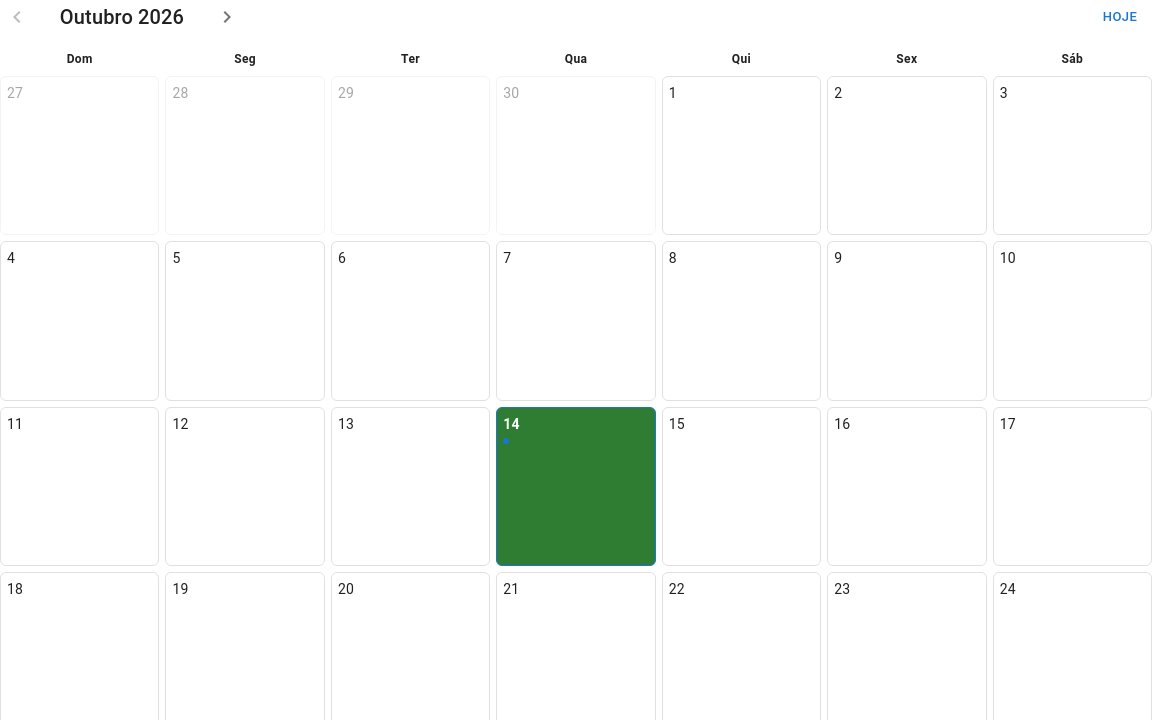
Scenario: CalendarView › abre o modal do dia ao clicar em um dia com eventos
Click the button "14" at (576, 486), box [496,407,656,566]
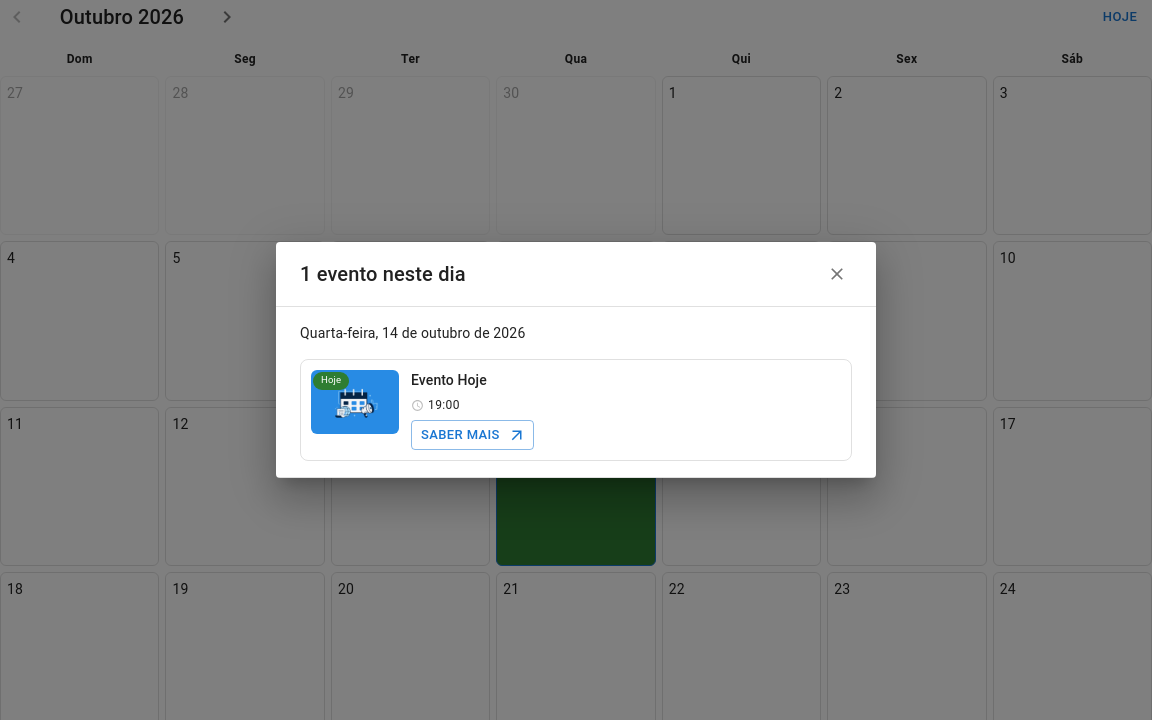
Expected: the heading "Evento Hoje" is shown, [411,370,487,392]
